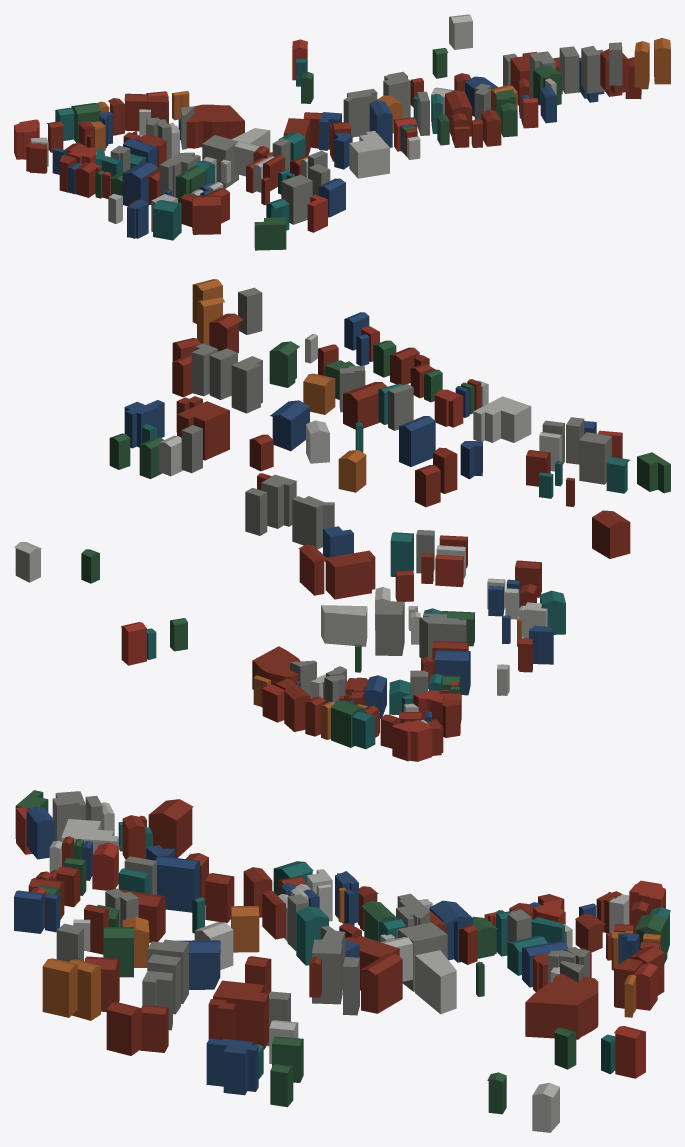
File: near-17-109445-59470.e3012df5.glb
The picture shows the model from 3 angles, top to bottom: view 1: azimuth 30°, elevation 25°; view 2: azimuth 150°, elevation 25°; view 3: azimuth 270°, elevation 25°; orthographic projection. The views are drawn at different scales.
Bounding box in the file's own units: 308 × 124 × 301.
